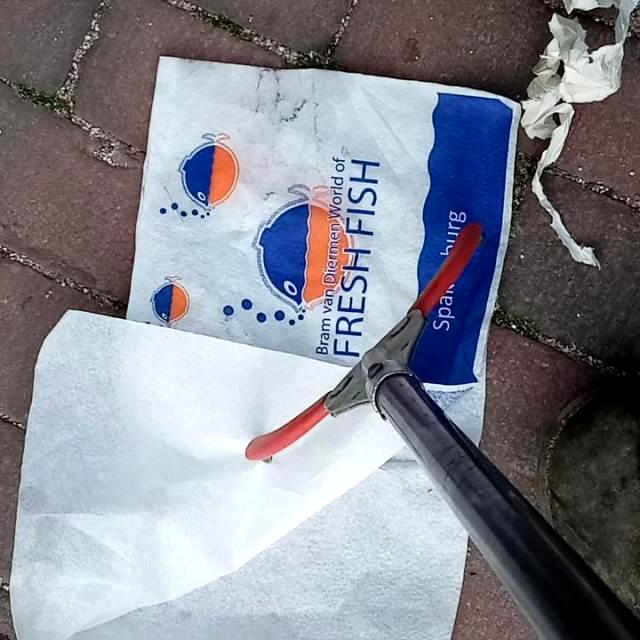Paper: (8, 306, 486, 640), (124, 51, 524, 395)
